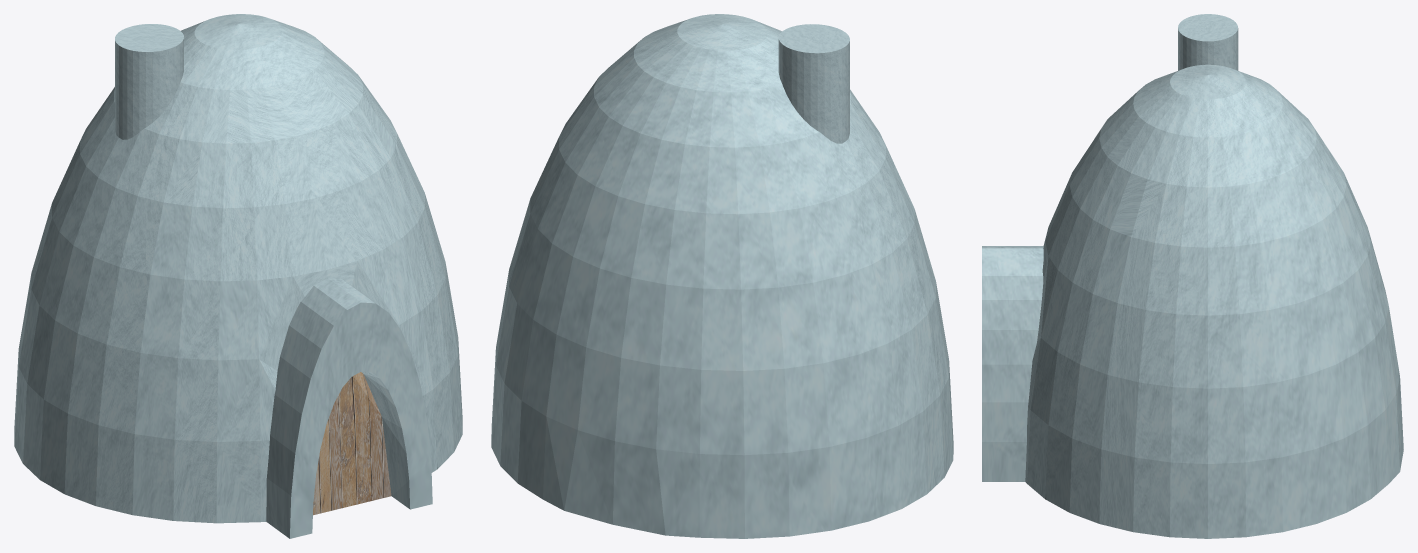
File: igloo.obj
The picture shows the model from 3 angles, left to right: view 1: azimuth 30°, elevation 25°; view 2: azimuth 150°, elevation 25°; view 3: azimuth 270°, elevation 25°; orthographic projection. The views are drawn at different scales.
Parts seen in each view (by area): view 1: igloo; view 2: igloo; view 3: igloo.
Part boxes in pixels (x1,y1,x2,y2): igloo: [14, 14, 462, 538]; igloo: [491, 14, 953, 538]; igloo: [982, 14, 1403, 538].
Size of the model in its own units: 1 by 1 by 1.
